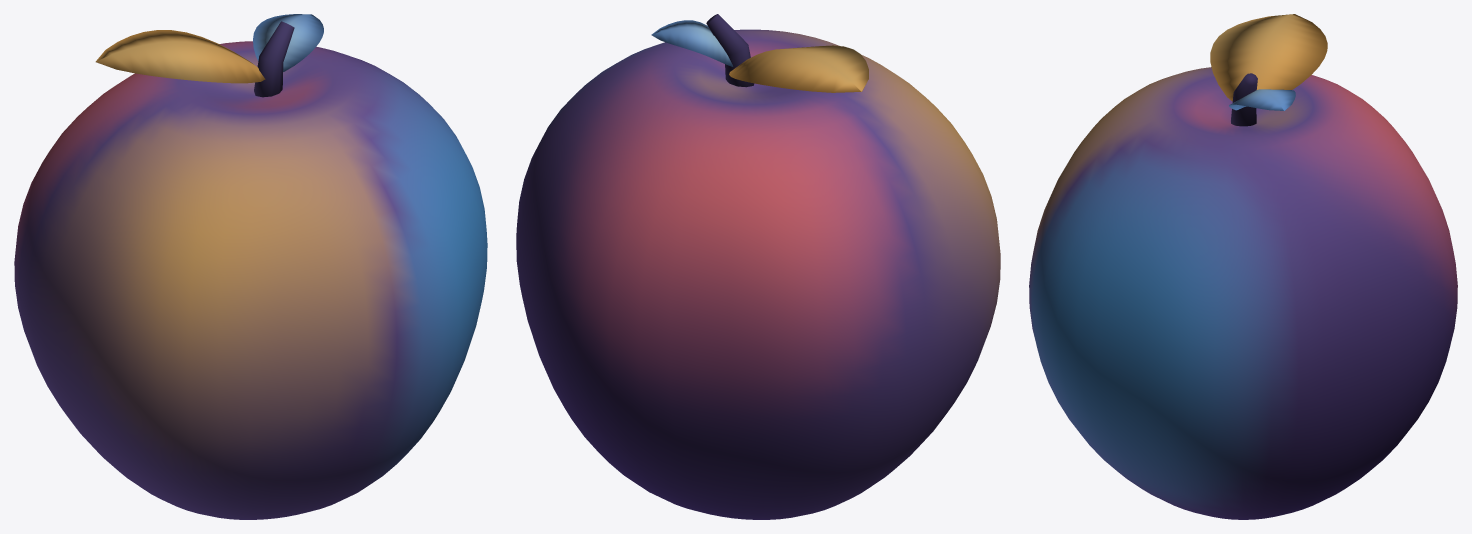
File: Fusion_Fuji.glb
The picture shows the model from 3 angles, left to right: view 1: azimuth 30°, elevation 25°; view 2: azimuth 150°, elevation 25°; view 3: azimuth 270°, elevation 25°; orthographic projection. The views are drawn at different scales.
Parts seen in each view (by area): view 1: Fusion_Fuji; view 2: Fusion_Fuji; view 3: Fusion_Fuji.
Boxes of the visible parts, <box> form: Fusion_Fuji: <box>14,14,487,519</box>; Fusion_Fuji: <box>516,14,1000,519</box>; Fusion_Fuji: <box>1029,14,1457,519</box>.
Bounding box in the file's own units: 0.7631 × 0.8104 × 0.7281.
